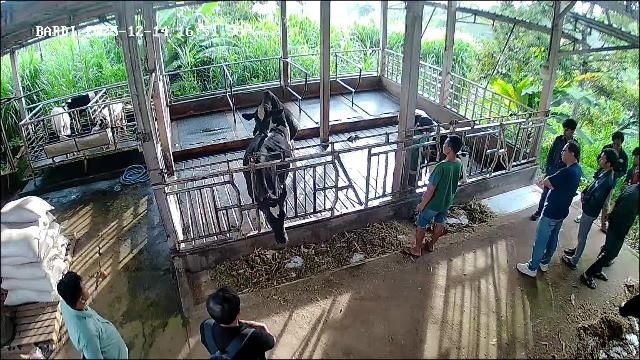mounting: (243, 90, 300, 185)
